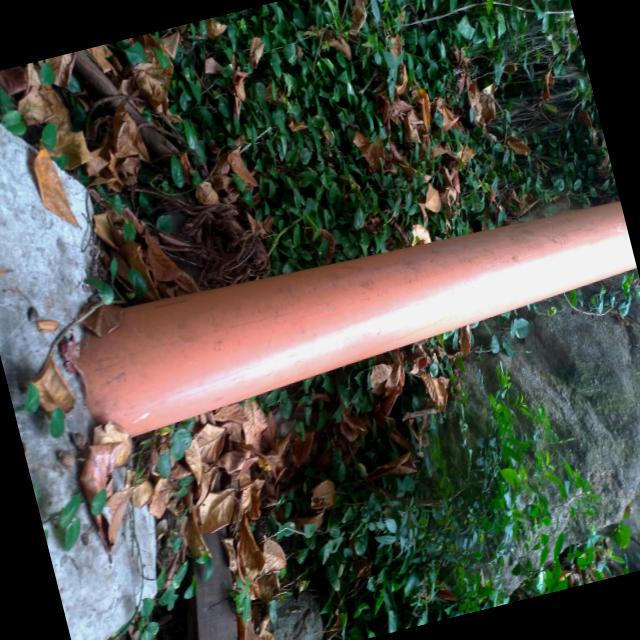gas: (73, 186, 640, 445)
